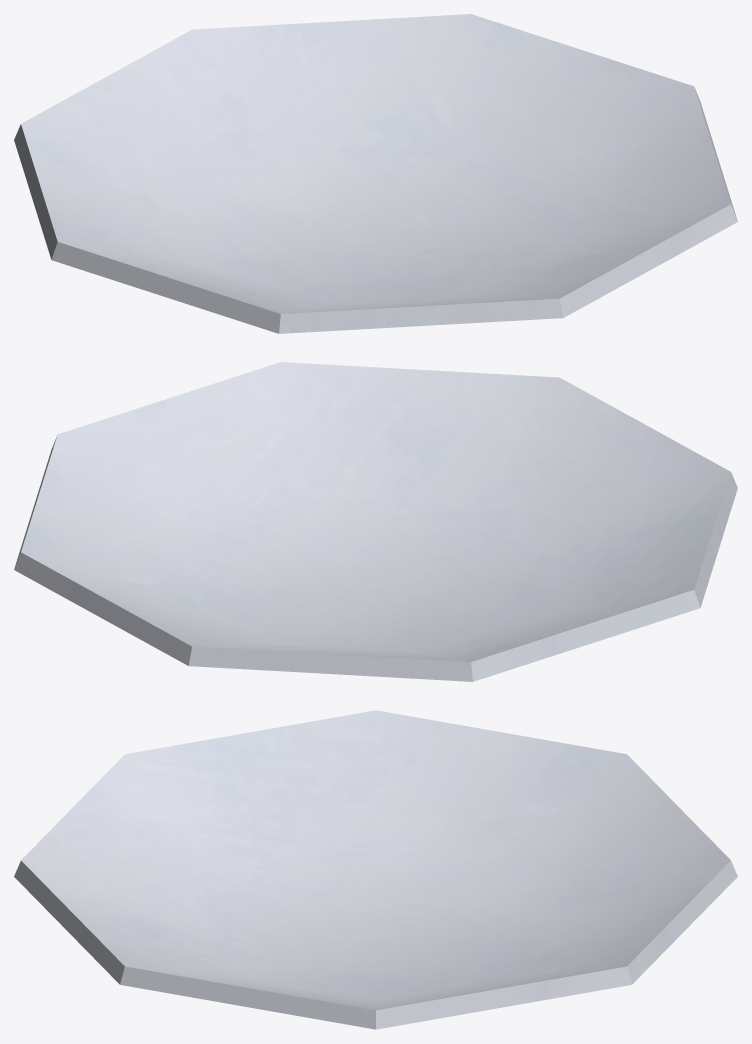
The picture shows the model from 3 angles, top to bottom: view 1: azimuth 30°, elevation 25°; view 2: azimuth 150°, elevation 25°; view 3: azimuth 270°, elevation 25°; orthographic projection. The views are drawn at different scales.
Visible parts, largest first — view 1: Dish003_Plastic_06001_0; view 2: Dish003_Plastic_06001_0; view 3: Dish003_Plastic_06001_0.
Boxes of the visible parts, x1,y1,x2,y2 form: Dish003_Plastic_06001_0: [14, 14, 737, 333]; Dish003_Plastic_06001_0: [14, 362, 737, 681]; Dish003_Plastic_06001_0: [14, 710, 737, 1029].
Bounding box in the file's own units: 0.4222 × 0.0482 × 0.4222.
1 material, 1 textured.
